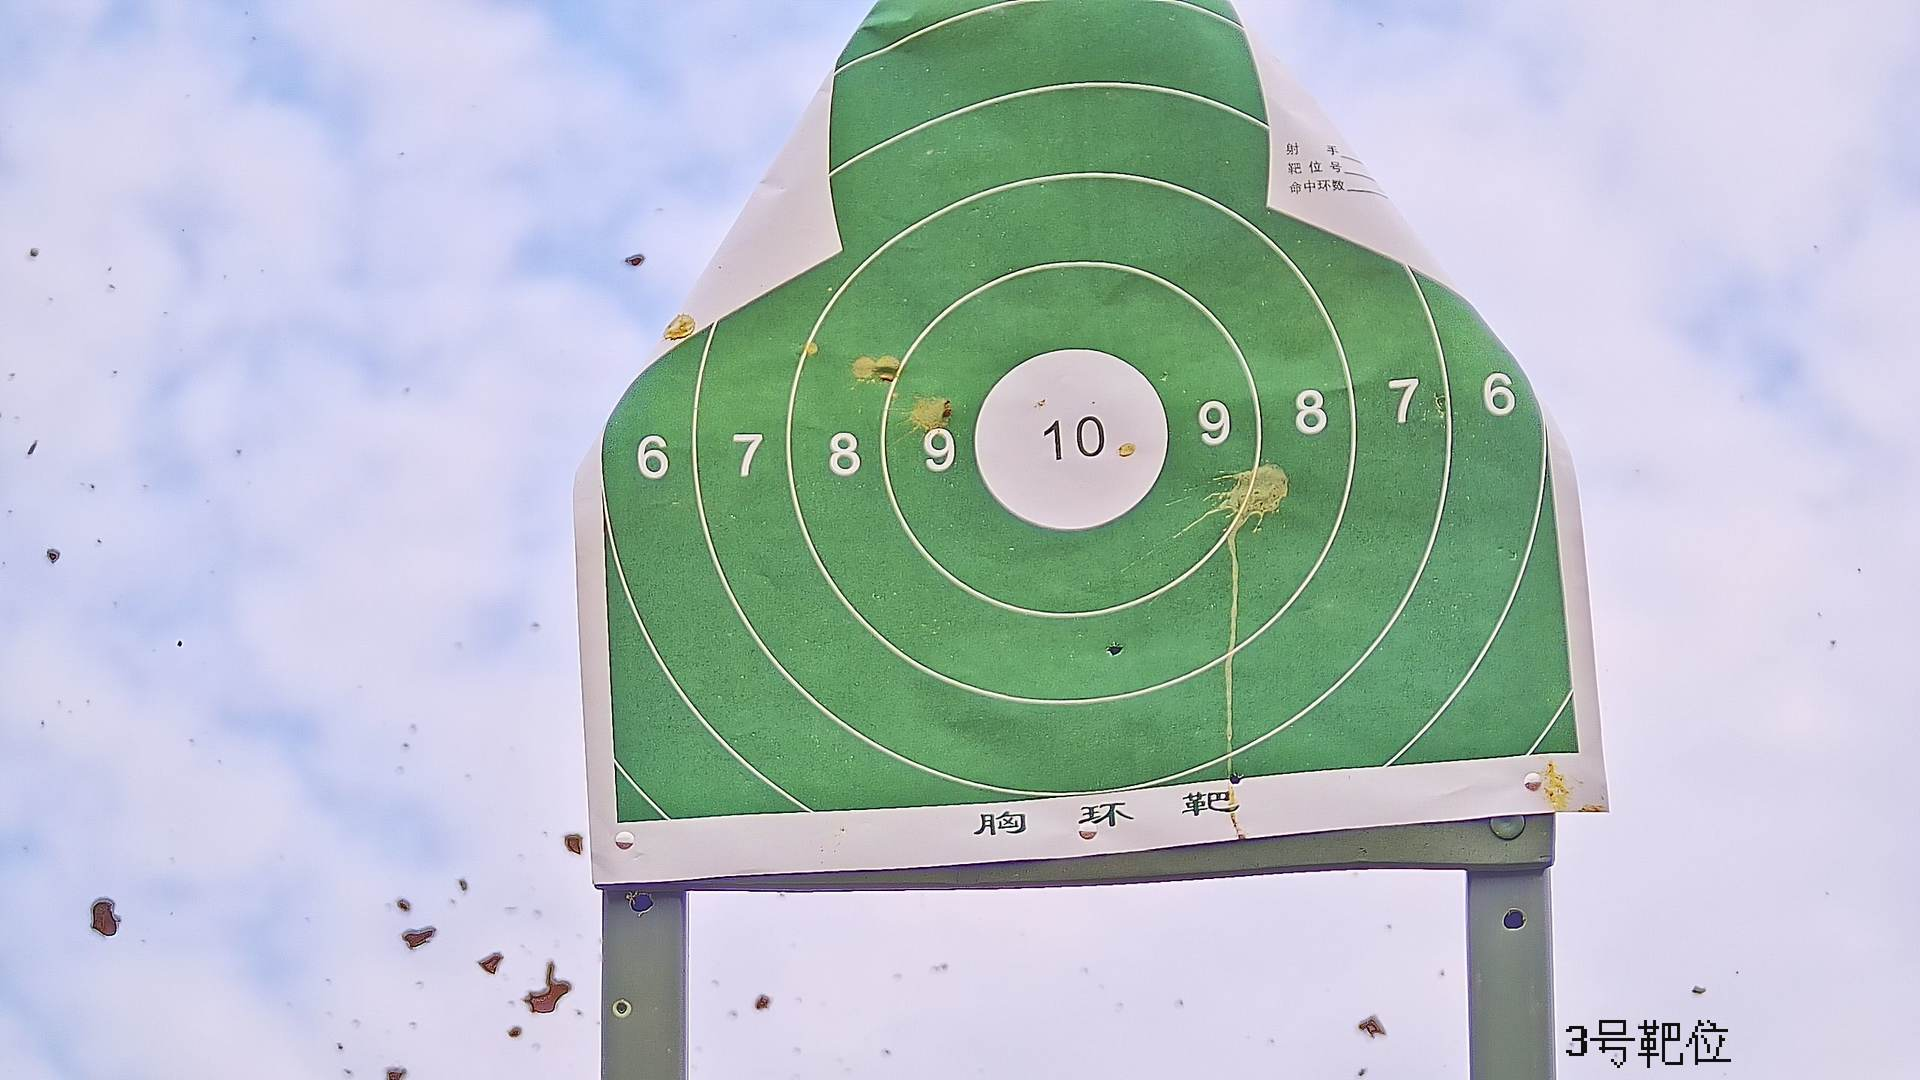hole: (1106, 641, 1124, 658), (1230, 773, 1244, 783)
kernel: (1065, 440, 1077, 447)
target: (603, 1, 1586, 819)
ten: (971, 347, 1170, 531)
